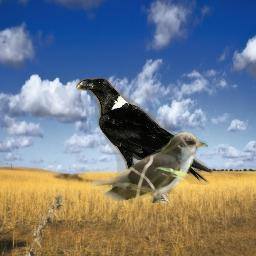Crow: (76, 78, 213, 194)
Cuckoo: (90, 131, 208, 203)
